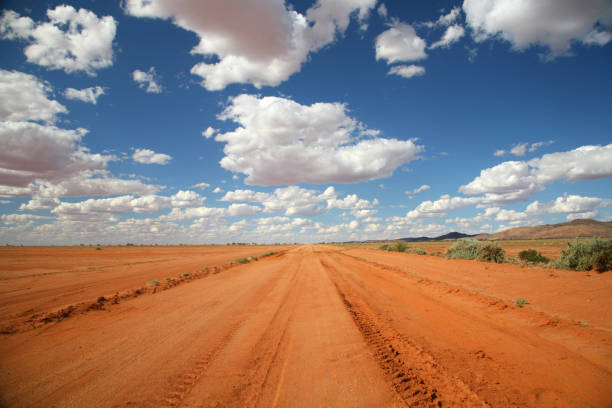vehicle_track: (321, 259, 487, 407), (156, 254, 311, 407)
